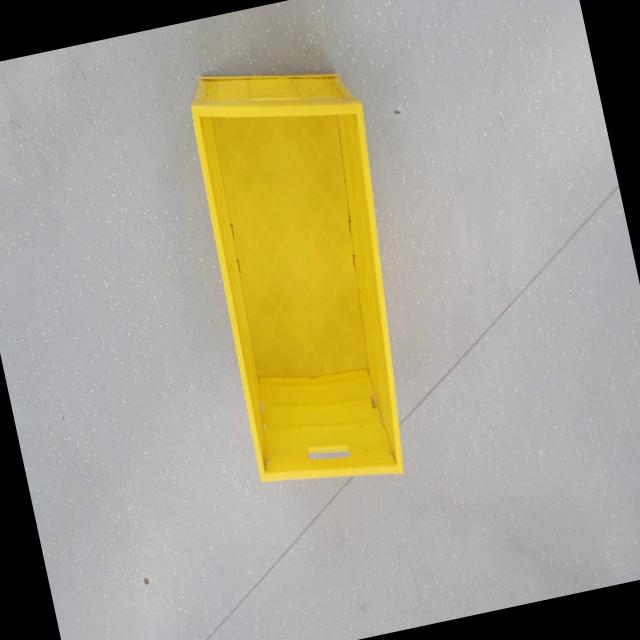box: (166, 42, 445, 516)
